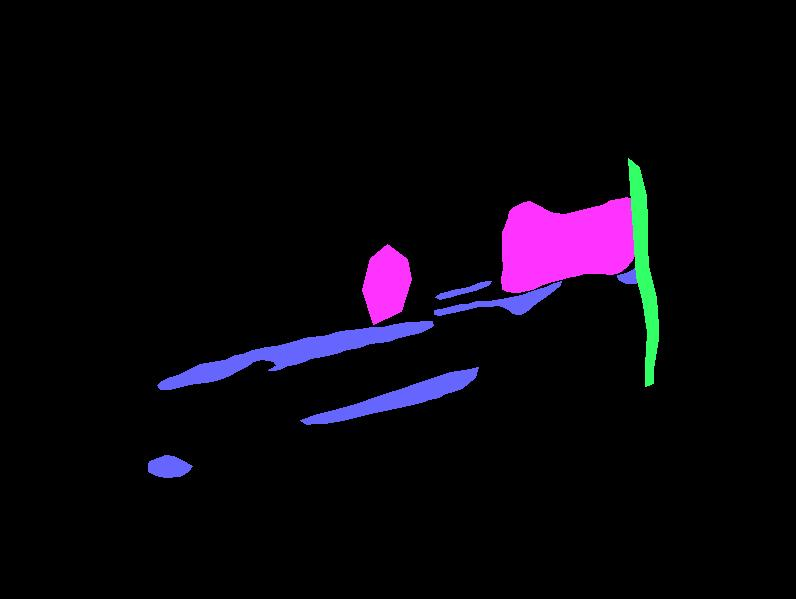Broken part: (628, 158, 658, 386)
Dent: (501, 197, 638, 292), (362, 244, 411, 324)
Scratch: (157, 321, 433, 389), (300, 367, 478, 424), (434, 281, 561, 315), (435, 281, 491, 299), (148, 455, 192, 477), (617, 267, 643, 283)
